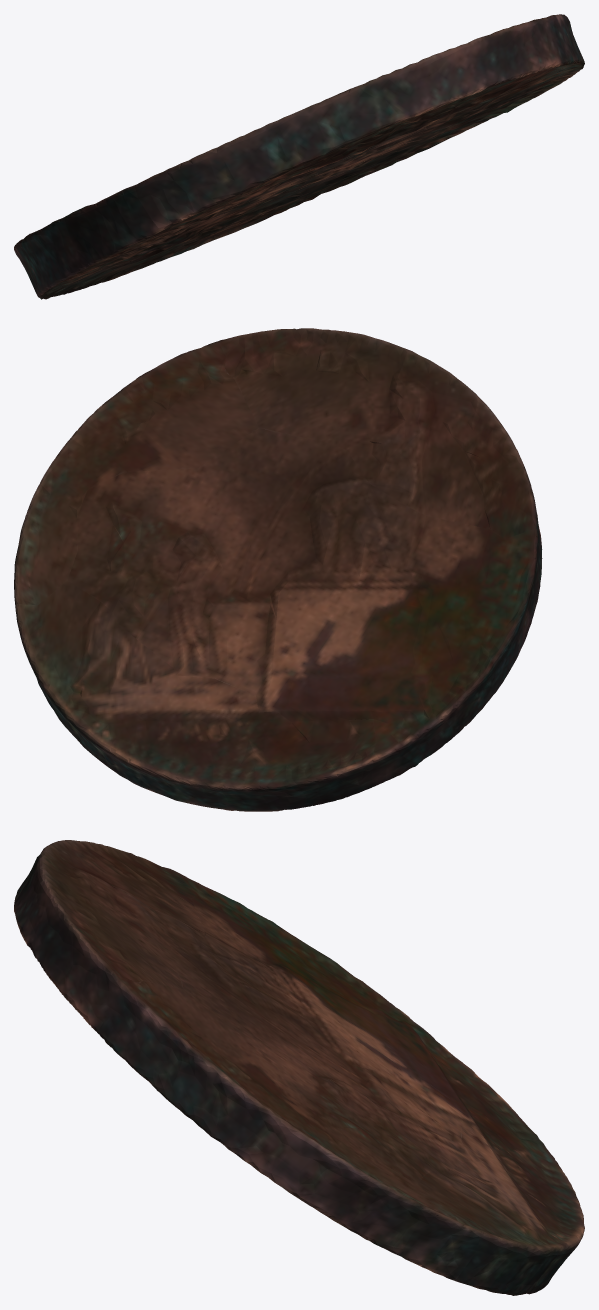
Rendered from Monnaie 3dML.glb.
3 views of the same model, one above another, from view 1: azimuth 30°, elevation 25°; view 2: azimuth 150°, elevation 25°; view 3: azimuth 270°, elevation 25° (orthographic). The views are drawn at different scales.
Bounding box in the file's own units: 1.02 × 0.6395 × 0.8349.
Materials: 2 (2 with a texture image).
